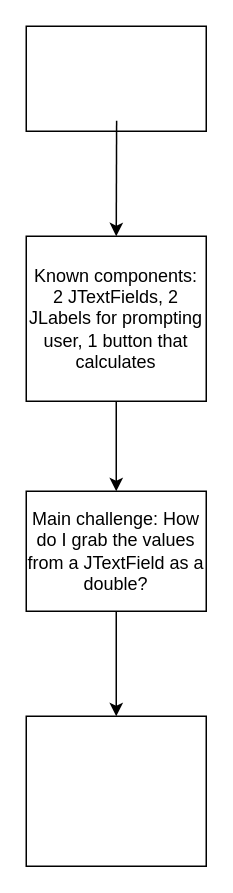
Some shapes in this 233 by 893 pixel diagram are drawn without their labels. The centre of each missing label's shape, as x and y in pixels:
"Task: Make a GUI-based program to calculate yearly salary" goes at (x=115, y=78).
"Took a peek at the lecture. How about we use a double equivalent to parseInt()?" goes at (x=115, y=790).
